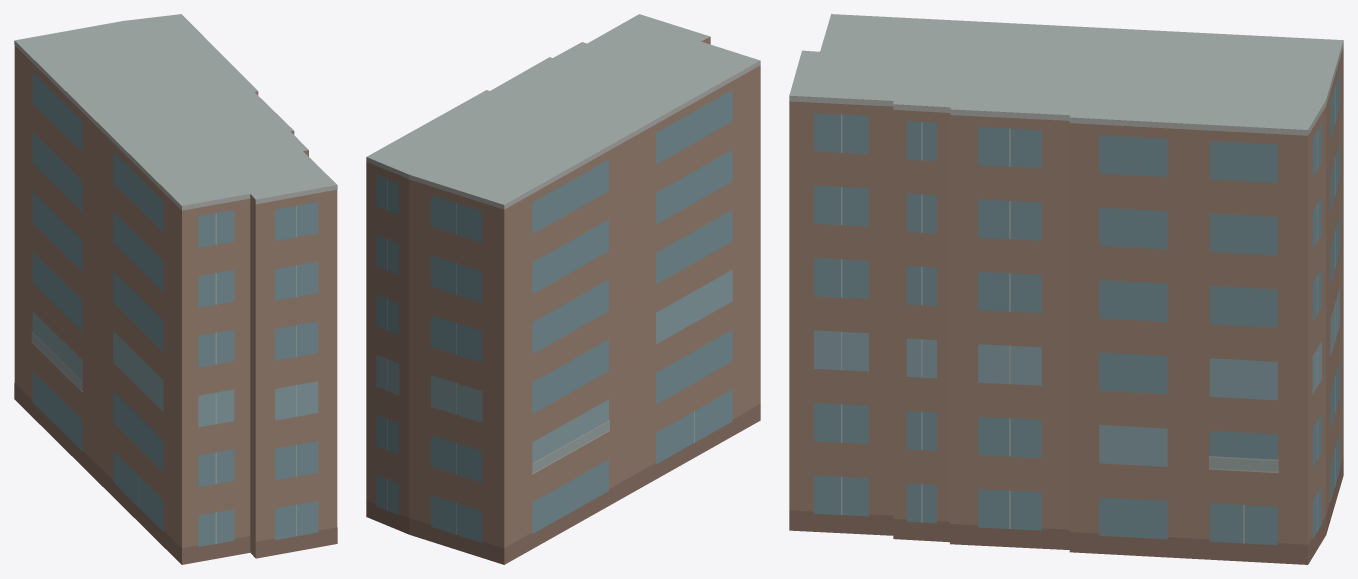
The model's file is survey-upis-32685405.glb.
The picture shows the model from 3 angles, left to right: view 1: azimuth 30°, elevation 25°; view 2: azimuth 150°, elevation 25°; view 3: azimuth 270°, elevation 25°; orthographic projection. The views are drawn at different scales.
Visible parts, largest first — view 1: survey-upis-32685405.tmp; view 2: survey-upis-32685405.tmp; view 3: survey-upis-32685405.tmp.
Part boxes in pixels (<box>): survey-upis-32685405.tmp: <box>14,14,337,564</box>; survey-upis-32685405.tmp: <box>366,14,760,564</box>; survey-upis-32685405.tmp: <box>789,14,1343,564</box>.
Bounding box in the file's own units: 10.72 × 18.7 × 21.62.
